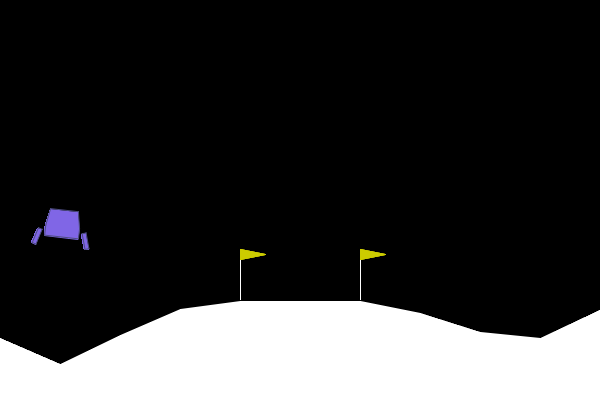lander: (30, 205, 94, 252)
